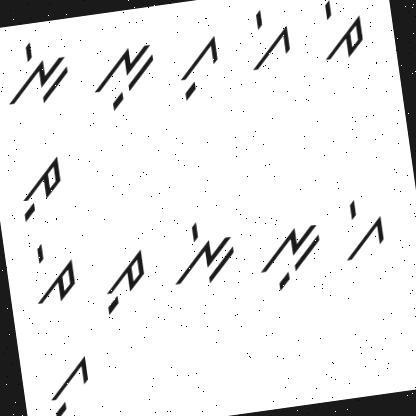ge: (333, 187, 394, 270), (235, 0, 301, 74)
gu: (36, 344, 101, 416), (172, 25, 230, 103)
nge: (156, 212, 244, 294), (0, 27, 77, 107)
ngu: (252, 214, 328, 298), (87, 35, 163, 116)
te: (22, 235, 82, 308), (312, 0, 372, 64)
tu: (8, 146, 76, 226), (98, 246, 154, 317)
